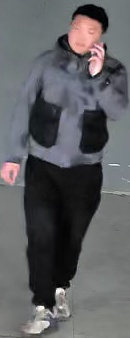phone: (52, 7, 125, 118)
